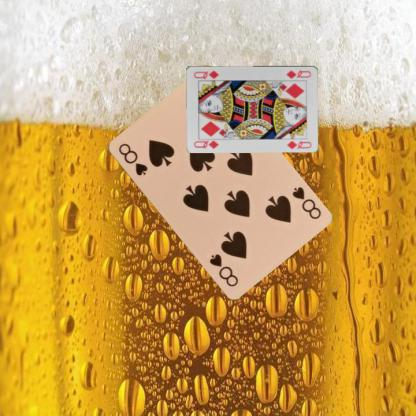8s: (115, 140, 148, 178), (289, 184, 322, 220)
Qd: (192, 136, 222, 150), (284, 68, 312, 80)
